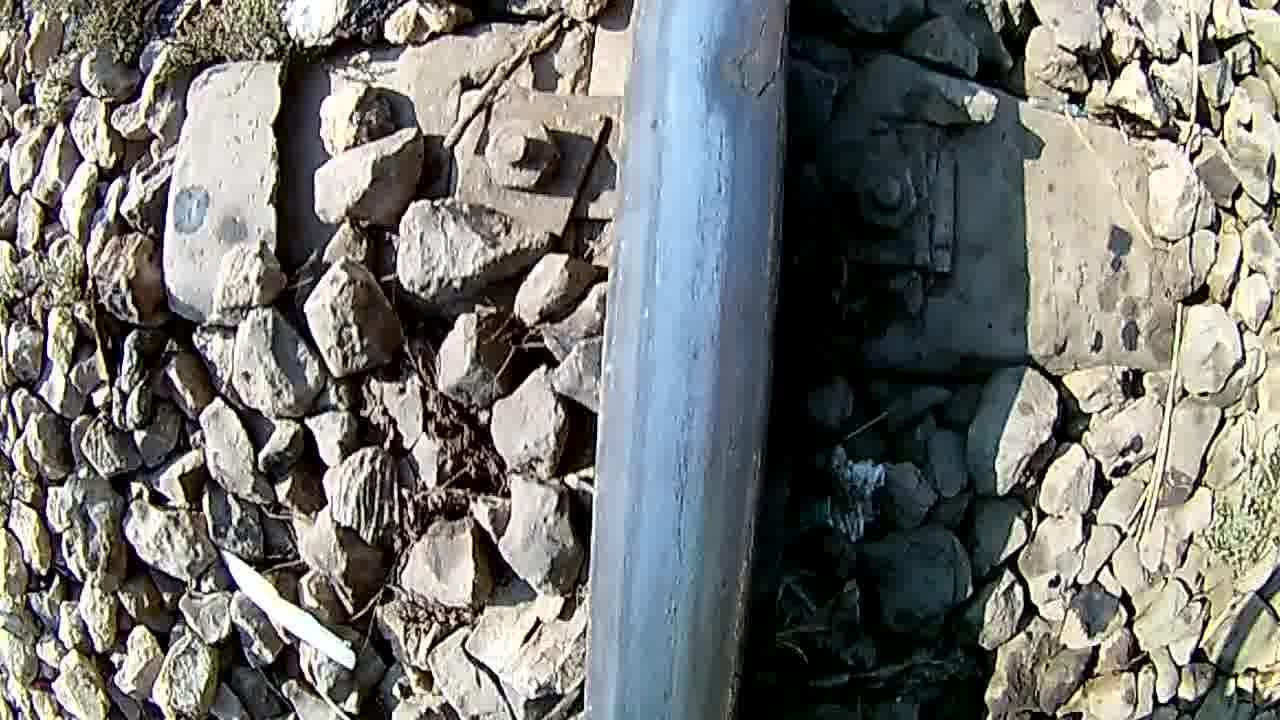crack: (592, 106, 788, 720), (688, 7, 806, 102)
